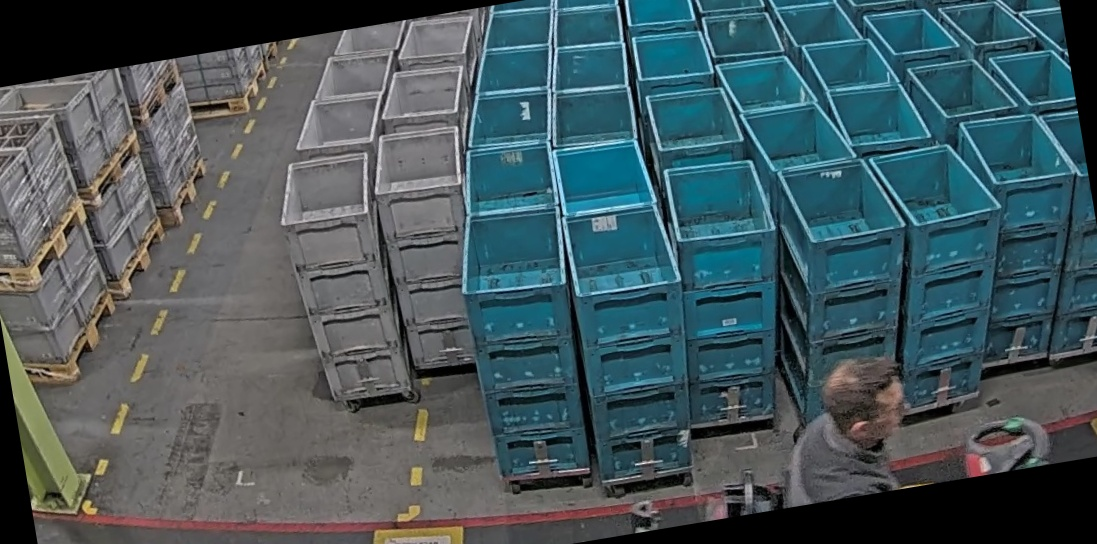4G: (270, 148, 412, 407), (364, 122, 499, 372)
B4: (753, 149, 937, 429), (855, 136, 1032, 413), (447, 199, 605, 485), (648, 153, 808, 428), (559, 197, 713, 482), (942, 103, 1097, 366)
